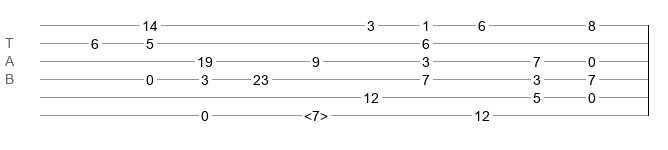0: (146, 72, 154, 82), (201, 108, 209, 118), (588, 90, 596, 100), (588, 54, 596, 64)
1: (422, 18, 430, 28)
12: (363, 90, 379, 100), (474, 108, 490, 118)
14: (142, 18, 158, 28)
19: (197, 54, 213, 64)
23: (253, 72, 269, 82)
3: (201, 72, 209, 82), (367, 18, 375, 28), (422, 54, 430, 64), (533, 72, 541, 82)
5: (146, 36, 154, 46), (533, 90, 541, 100)
6: (91, 36, 99, 46), (422, 36, 430, 46), (478, 18, 486, 28)
7: (422, 72, 430, 82), (533, 54, 541, 64), (588, 72, 596, 82)
8: (588, 18, 596, 28)
9: (312, 54, 320, 64)
harmonic: (304, 108, 328, 118)
